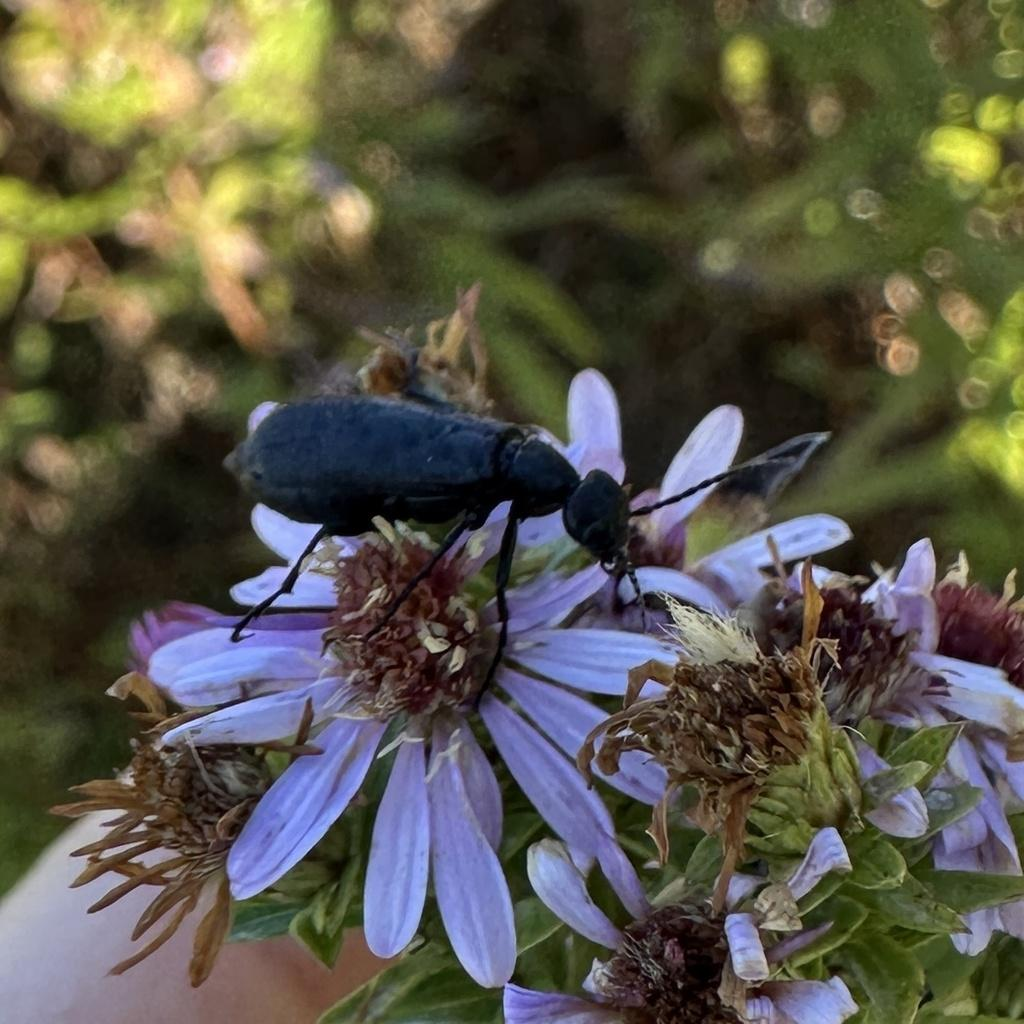blister_beetle: (162, 291, 835, 729)
